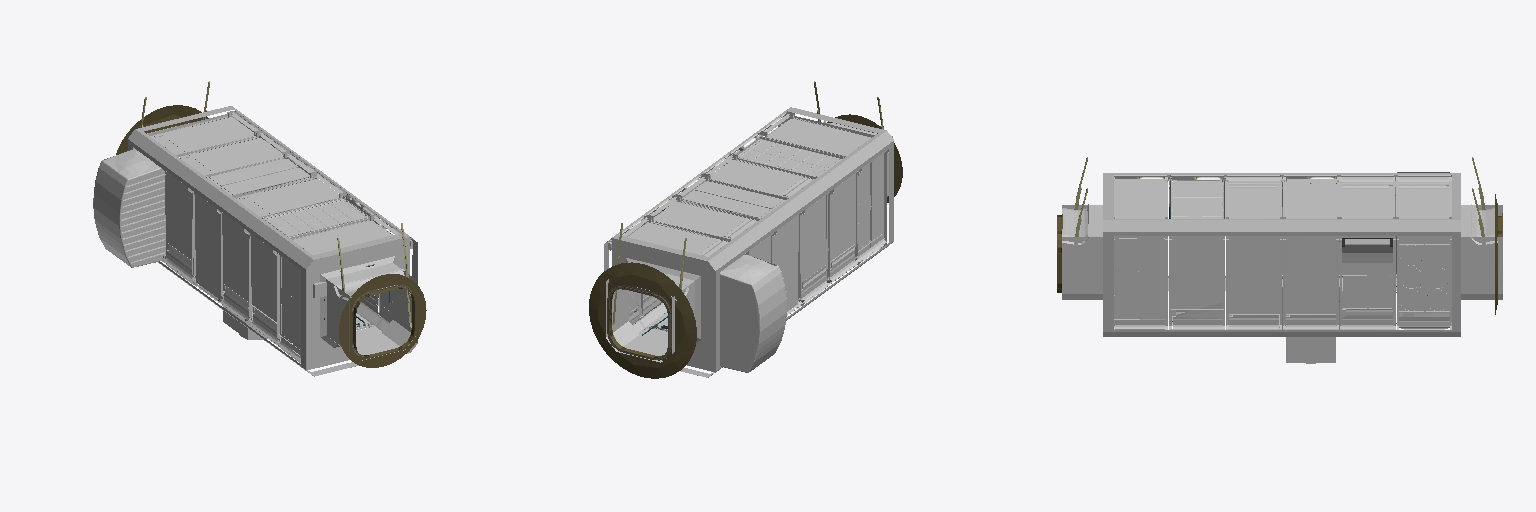
3 views of the same model, side by side, from view 1: azimuth 30°, elevation 25°; view 2: azimuth 150°, elevation 25°; view 3: azimuth 270°, elevation 25° (orthographic).
Parts seen in each view (by area): view 1: US_Lab_Int_AFT_Bulkhead; view 2: US_Lab_Int_AFT_Bulkhead; view 3: US_Lab_Int_AFT_Bulkhead.
Part boxes in pixels (left/top/right/bottom): US_Lab_Int_AFT_Bulkhead: left=93, top=81, right=426, bottom=376; US_Lab_Int_AFT_Bulkhead: left=589, top=81, right=902, bottom=378; US_Lab_Int_AFT_Bulkhead: left=1057, top=157, right=1502, bottom=363.
Size of the model in its own units: 3.11 by 3.51 by 7.73.
Materials: 9 (1 with a texture image).